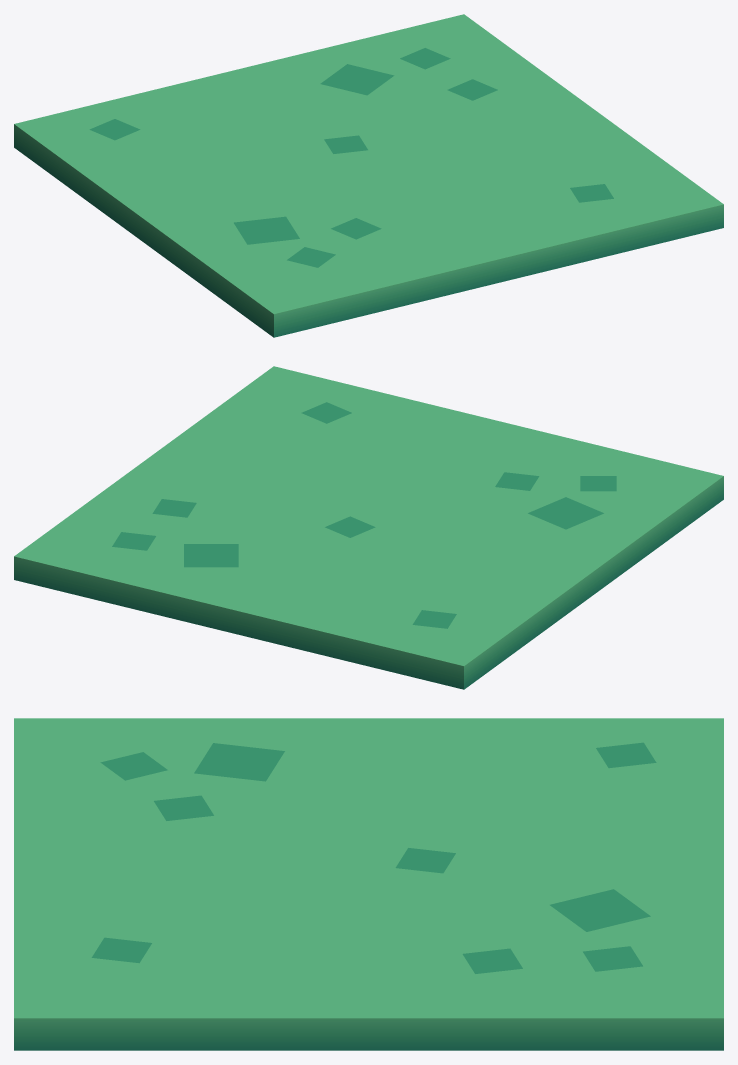
File: grass.glb
3 views of the same model, one above another, from view 1: azimuth 30°, elevation 25°; view 2: azimuth 150°, elevation 25°; view 3: azimuth 270°, elevation 25° (orthographic). The views are drawn at different scales.
Parts seen in each view (by area): view 1: grass; view 2: grass; view 3: grass.
Part boxes in pixels (bbox=[...]): grass: bbox=[14, 14, 723, 337]; grass: bbox=[14, 366, 723, 689]; grass: bbox=[14, 718, 723, 1050].
Bounding box in the file's own units: 1 × 0.0599 × 1.
1 material, 1 textured.
